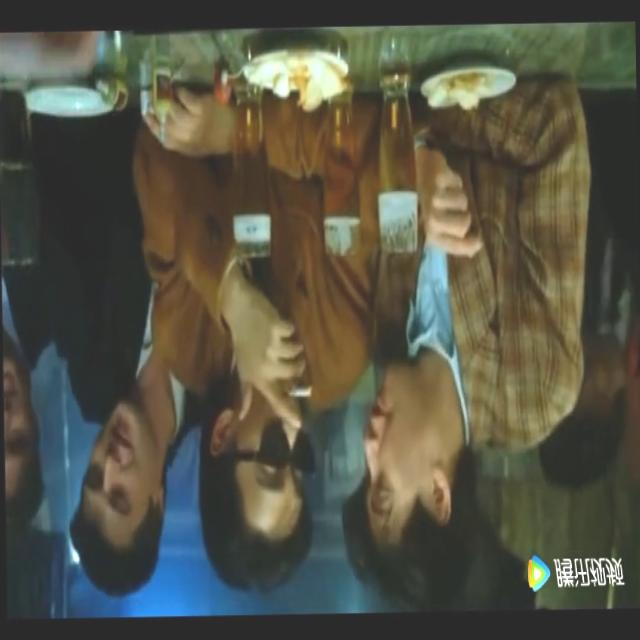smoke: (289, 386, 314, 396)
